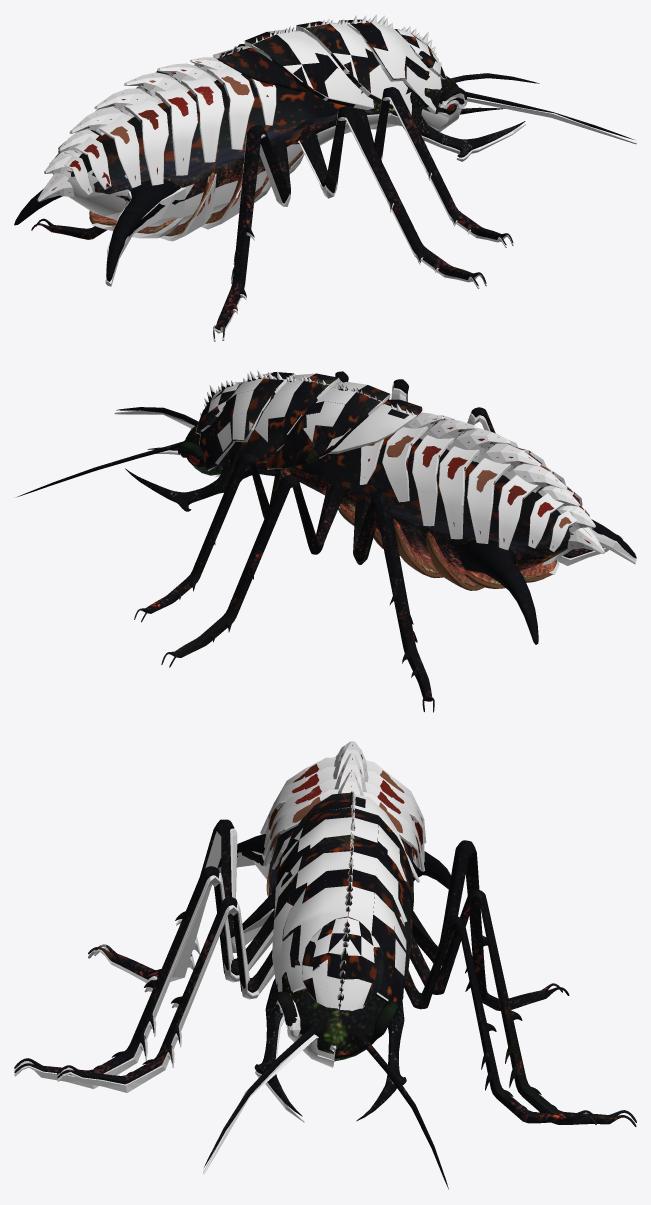
Rendered from Cockroach_red_2.fbx.
3 renders of one model, top to bottom at view 1: azimuth 30°, elevation 25°; view 2: azimuth 150°, elevation 25°; view 3: azimuth 270°, elevation 25°, orthographic. The views are drawn at different scales.
Parts seen in each view (by area): view 1: default, Object011, Box004, default004, Box024, Box022, Box023, default001, Box021; view 2: default, Object011, default004, default001, Box018, Box012, Box004, default002, Box007, Box005, Box020; view 3: default, default004, Box004, Object011, Box022, default001, Box018, Box023, Box021, Box020, Box024, Box005 (+1 smaller).
Part boxes in pixels (left/top/right/bottom): default: left=14, top=44, right=634, bottom=338; Object011: left=37, top=57, right=276, bottom=201; Box004: left=68, top=92, right=636, bottom=341; default004: left=217, top=19, right=446, bottom=114; Box024: left=251, top=31, right=374, bottom=109; Box022: left=347, top=21, right=441, bottom=114; Box023: left=303, top=23, right=411, bottom=115; default001: left=49, top=59, right=273, bottom=193; Box021: left=395, top=29, right=446, bottom=79; default: left=16, top=371, right=636, bottom=712; Object011: left=359, top=412, right=604, bottom=553; default004: left=196, top=372, right=422, bottom=473; default001: left=360, top=416, right=599, bottom=547; Box018: left=199, top=370, right=286, bottom=470; Box012: left=328, top=404, right=416, bottom=453; Box004: left=114, top=376, right=636, bottom=575; default002: left=338, top=507, right=552, bottom=590; Box007: left=267, top=384, right=382, bottom=469; Box005: left=246, top=375, right=330, bottom=469; Box020: left=195, top=380, right=239, bottom=434; default: left=14, top=819, right=636, bottom=1189; default004: left=274, top=791, right=413, bottom=1021; Box004: left=14, top=827, right=336, bottom=1174; Object011: left=260, top=741, right=426, bottom=882; Box022: left=277, top=868, right=350, bottom=992; default001: left=268, top=745, right=422, bottom=874; Box018: left=345, top=866, right=406, bottom=1001; Box023: left=272, top=834, right=351, bottom=984; Box021: left=302, top=917, right=348, bottom=1009; Box020: left=337, top=916, right=379, bottom=1010; Box024: left=274, top=807, right=352, bottom=917; Box005: left=348, top=834, right=407, bottom=922.
Size of the model in its own units: 138 by 53.99 by 109.
Materials: 6 (4 with a texture image).
